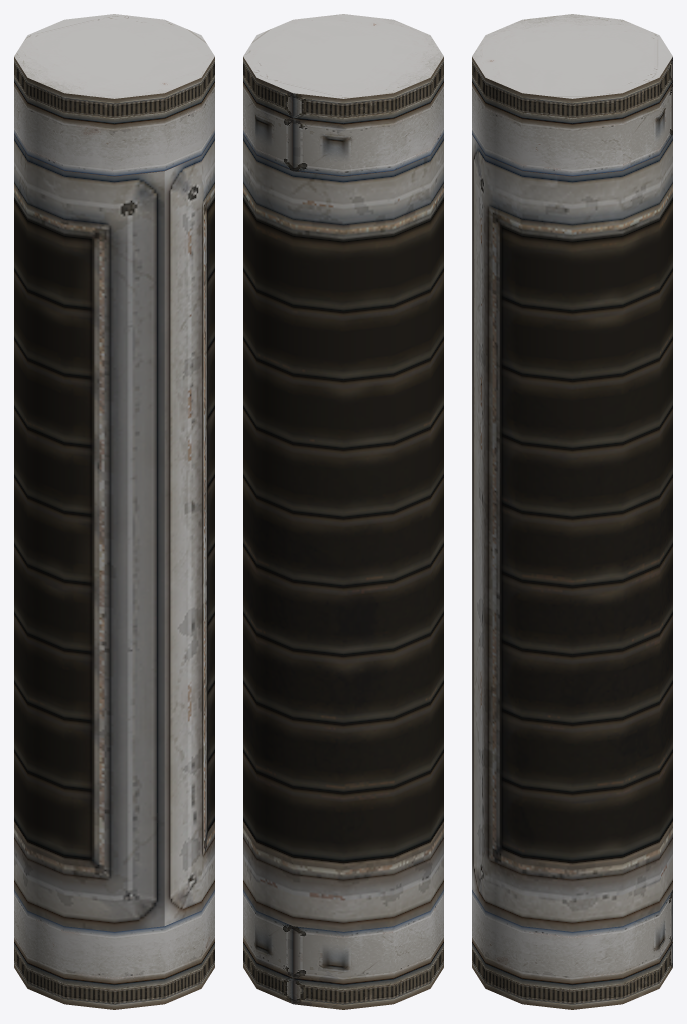
File: scifi_pipe_medium_4.FBX
3 renders of one model, left to right at view 1: azimuth 30°, elevation 25°; view 2: azimuth 150°, elevation 25°; view 3: azimuth 270°, elevation 25°, orthographic.
Parts seen in each view (by area): view 1: Cylinder014; view 2: Cylinder014; view 3: Cylinder014.
Boxes of the visible parts, left/top/right/bottom form: Cylinder014: left=14, top=14, right=214, bottom=1009; Cylinder014: left=243, top=14, right=443, bottom=1009; Cylinder014: left=472, top=14, right=672, bottom=1009.
Bounding box in the file's own units: 50.8 × 254 × 50.8.
